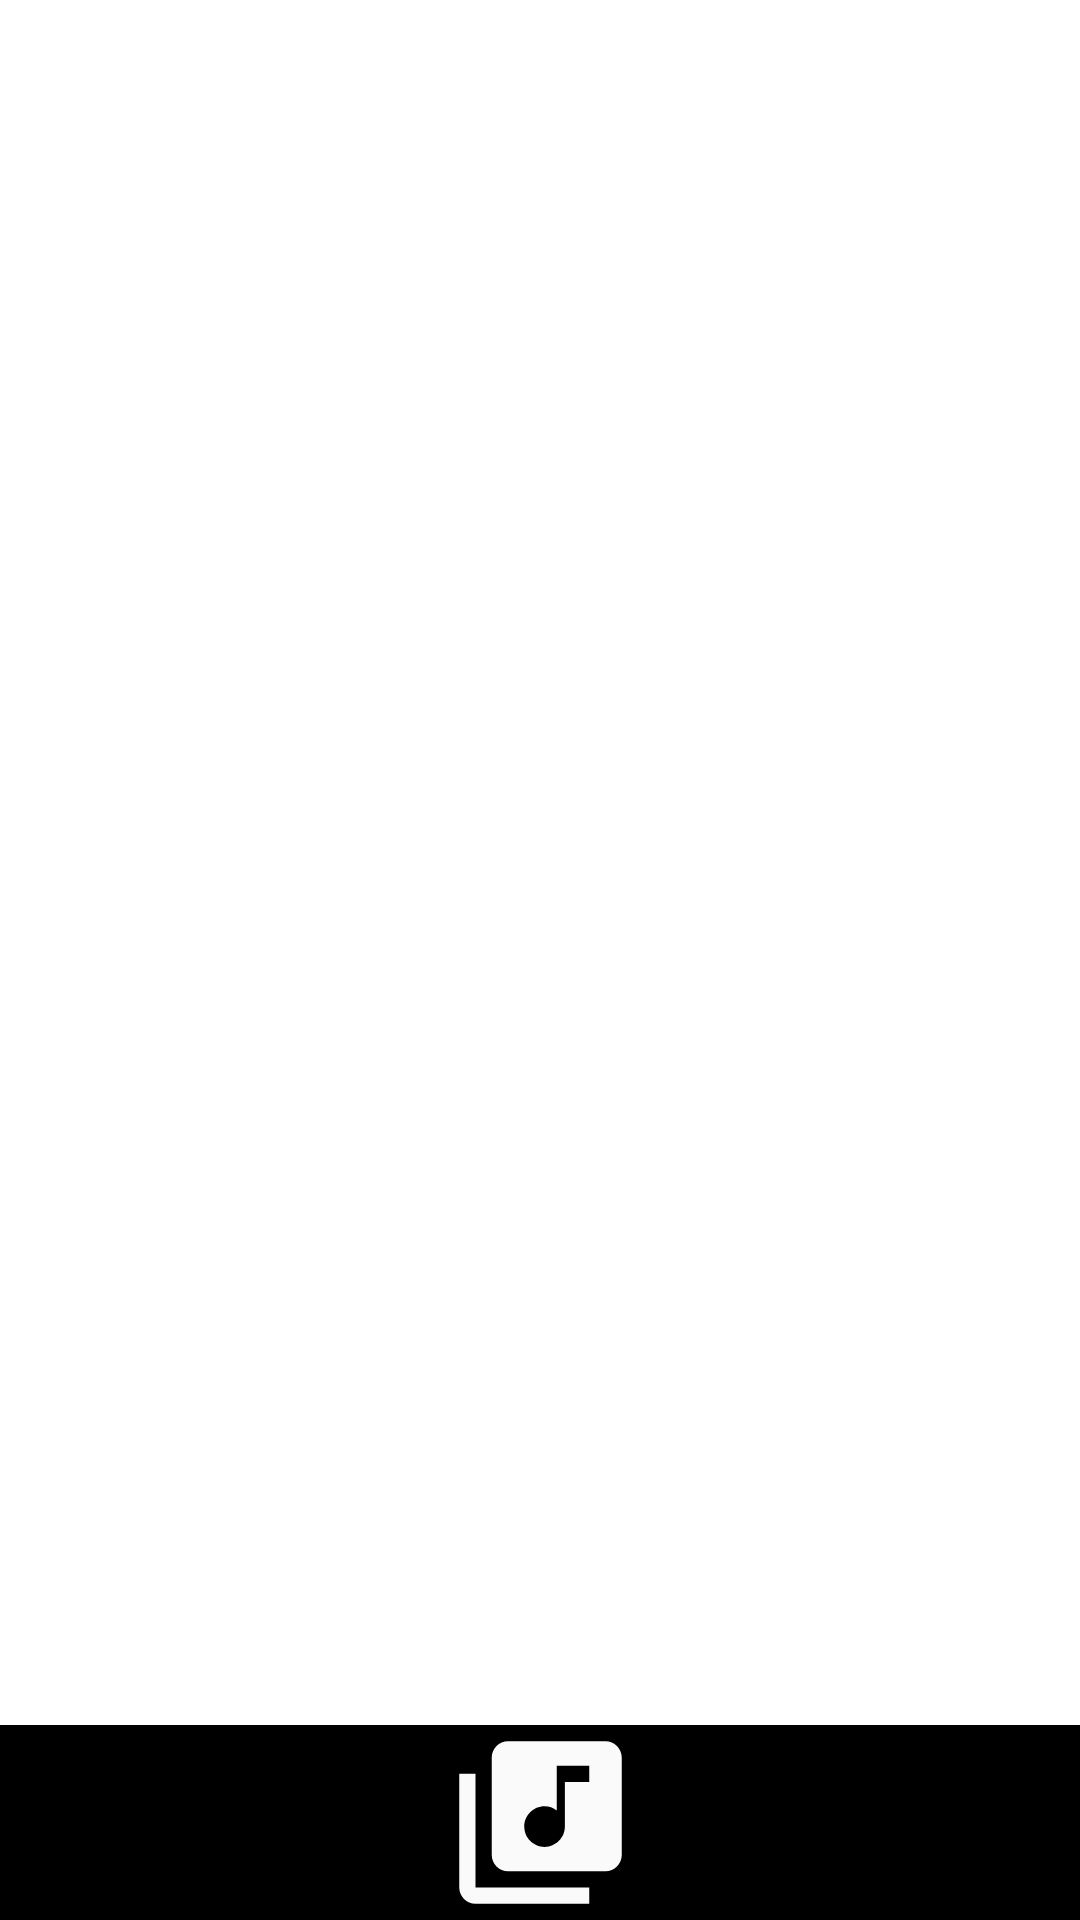

Where icons sit on this 1080w x 1920h app screen, as (x1, y1, x2, y2):
libarary music: (459, 1741, 622, 1904)
